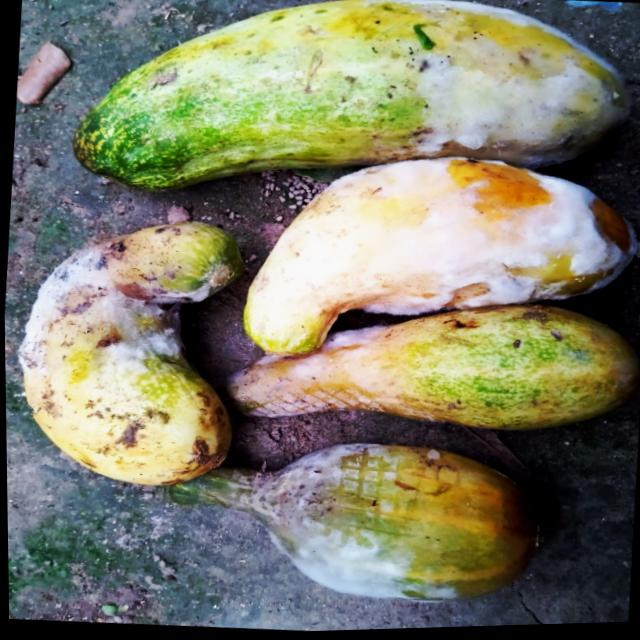Pythium-Fruit-Rot: (316, 146, 640, 346), (357, 0, 640, 183), (9, 231, 222, 450), (253, 428, 476, 621), (219, 305, 411, 449)
